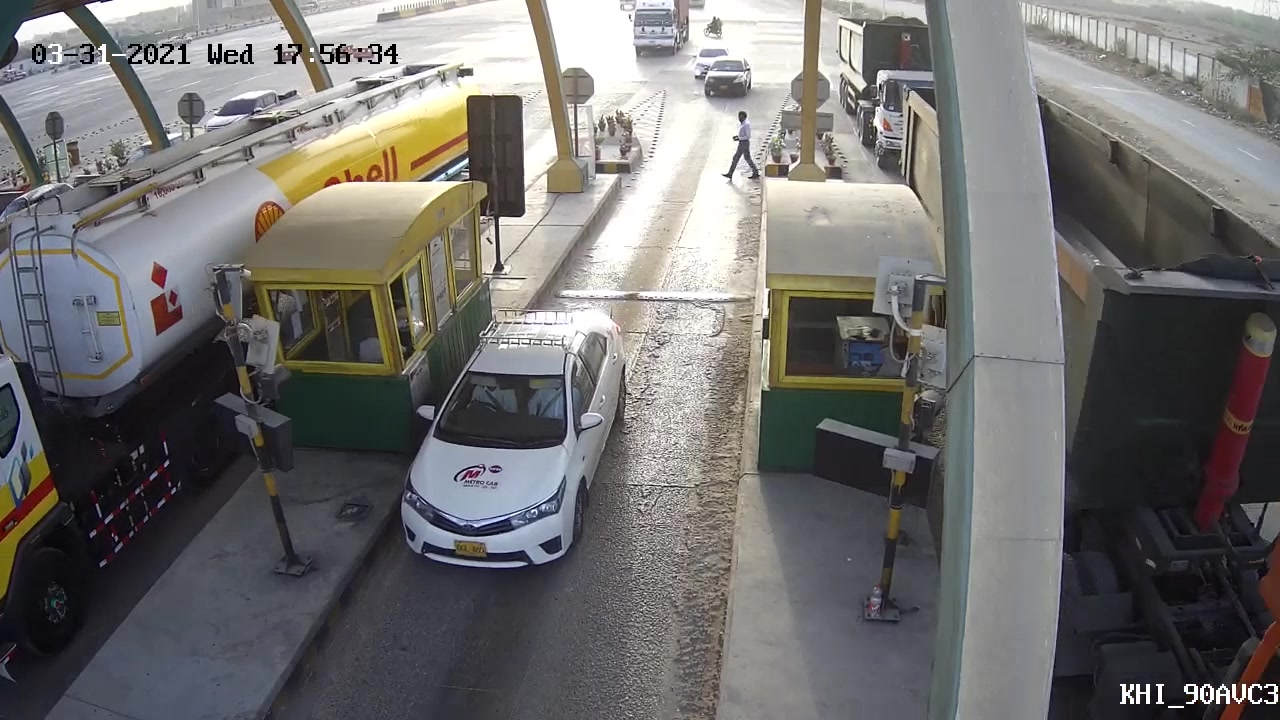F1: (393, 301, 633, 575)
